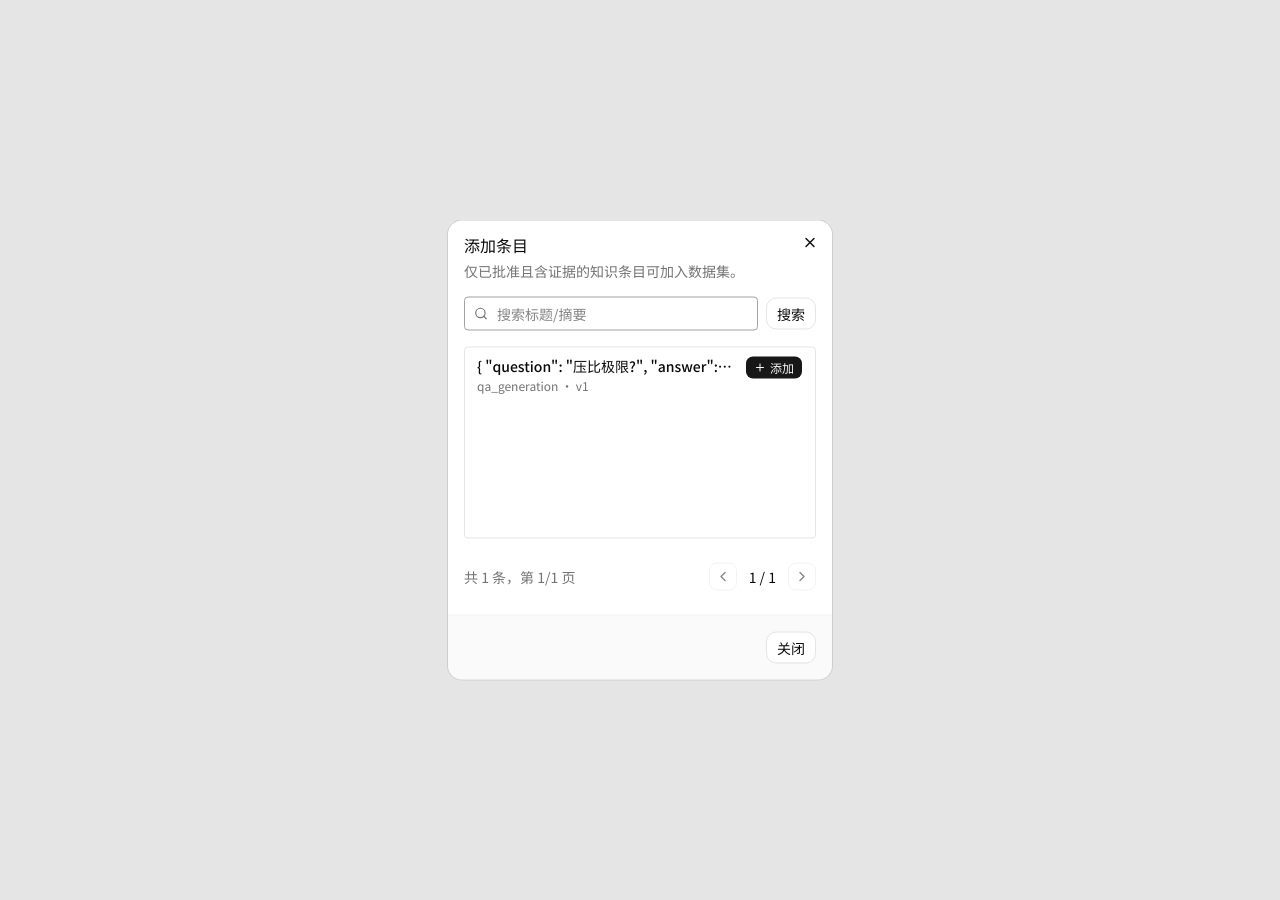
Test: EligibleItemPicker › Dataset 模式：加载 eligible 列表、空态与搜索
This screenshot has width=1280, height=900.
Expected: the text "{ \"question\": \"压比极限?\", \"answer\": \"…\" }" is shown, [477,356,733,376]
Expected: the text "仅已批准且含证据的知识条目可加入数据集。" is shown, [464,260,744,280]
Type "压比" into the field with placeholder "搜索标题/摘要".
click(611, 314); type("压比")  # box [464,296,758,330]
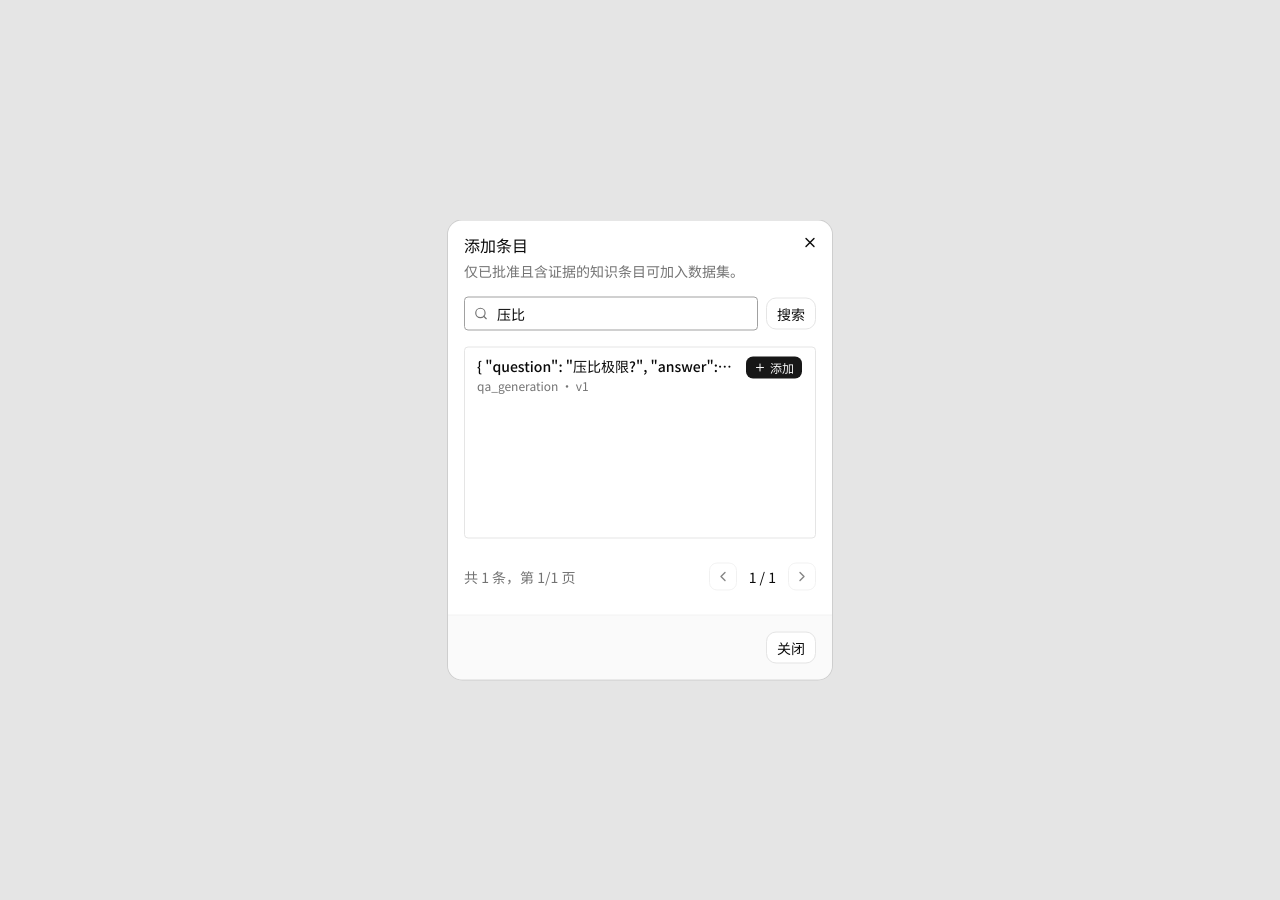
Click the button "搜索".
click(791, 314)  # box [766,298,816,330]
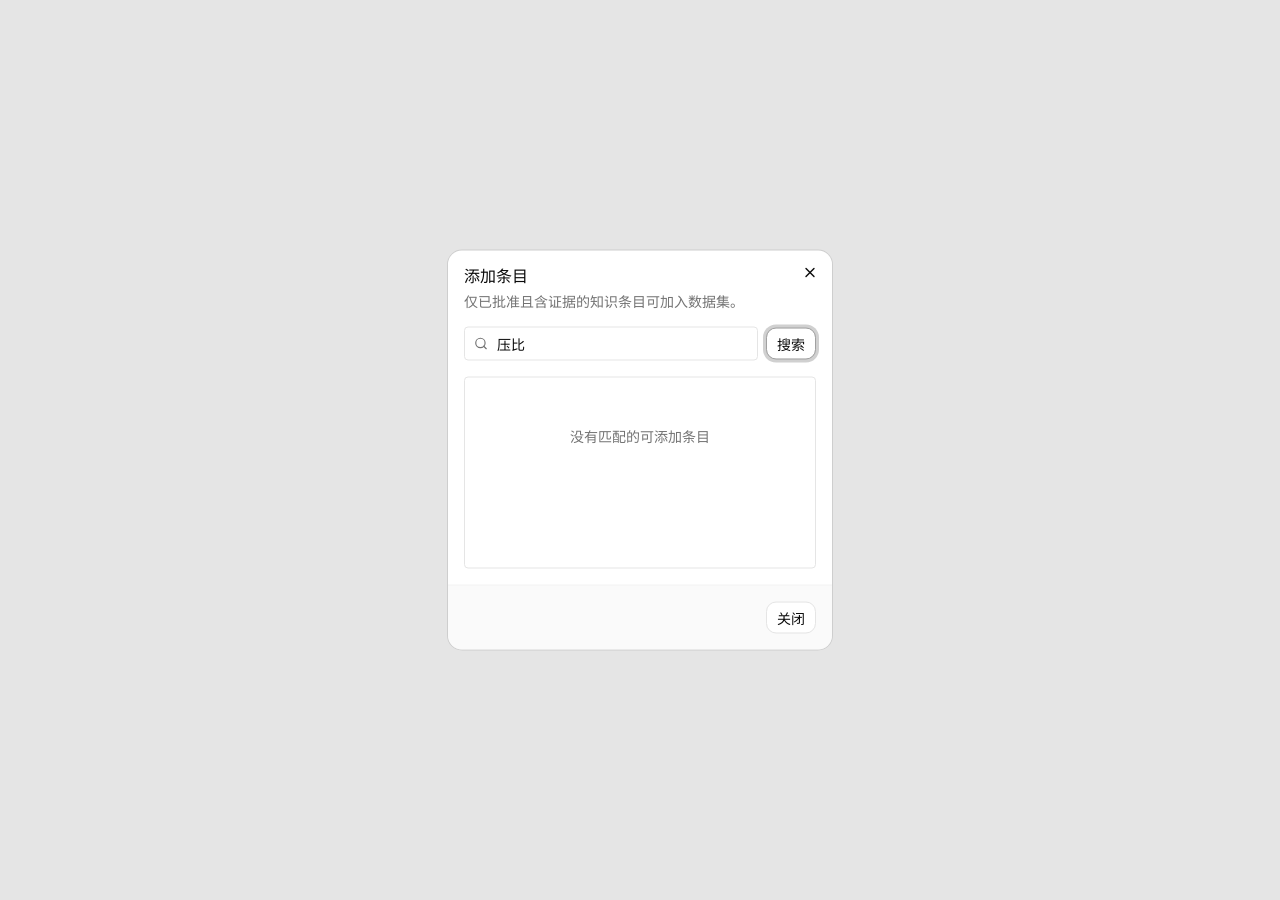
Expected: the text "没有匹配的可添加条目" is shown, [570,426,710,446]
